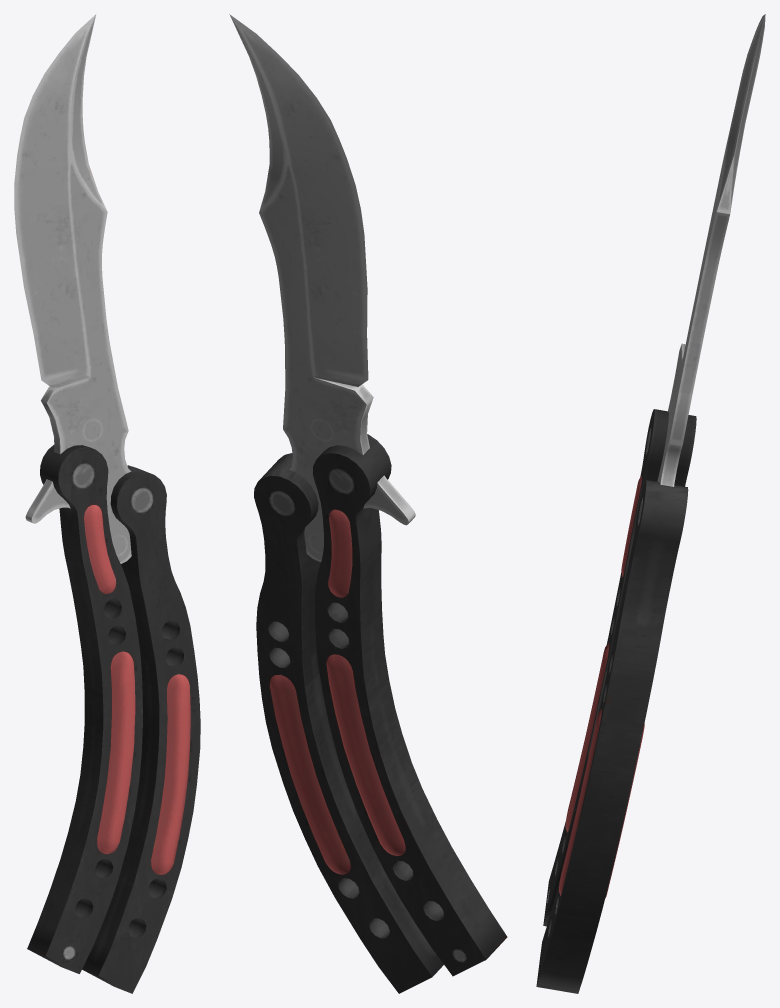
The model's file is Butterfly_TP.glb.
3 views of the same model, side by side, from view 1: azimuth 30°, elevation 25°; view 2: azimuth 150°, elevation 25°; view 3: azimuth 270°, elevation 25° (orthographic). The views are drawn at different scales.
Parts seen in each view (by area): view 1: Butterfly_upd_main, Butterfly_upd_handle2, Butterfly_upd_handle1; view 2: Butterfly_upd_handle2, Butterfly_upd_main, Butterfly_upd_handle1; view 3: Butterfly_upd_handle1, Butterfly_upd_main, Butterfly_upd_handle2.
Part boxes in pixels (bbox=[...]): Butterfly_upd_main: bbox=[14, 14, 131, 563]; Butterfly_upd_handle2: bbox=[27, 445, 142, 973]; Butterfly_upd_handle1: bbox=[82, 465, 200, 993]; Butterfly_upd_handle2: bbox=[312, 434, 507, 976]; Butterfly_upd_main: bbox=[229, 14, 415, 561]; Butterfly_upd_handle1: bbox=[254, 453, 443, 993]; Butterfly_upd_handle1: bbox=[536, 480, 688, 993]; Butterfly_upd_main: bbox=[657, 14, 765, 486]; Butterfly_upd_handle2: bbox=[543, 409, 696, 926].
Size of the model in its own units: 0.0681 by 0.3337 by 0.0682.
Materials: 1 (1 with a texture image).
